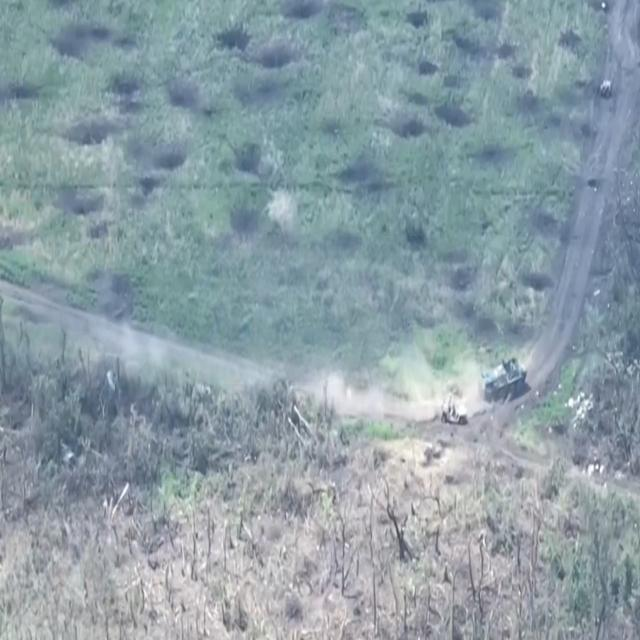APC: (480, 354, 530, 409)
Vehicle: (440, 392, 470, 428)
